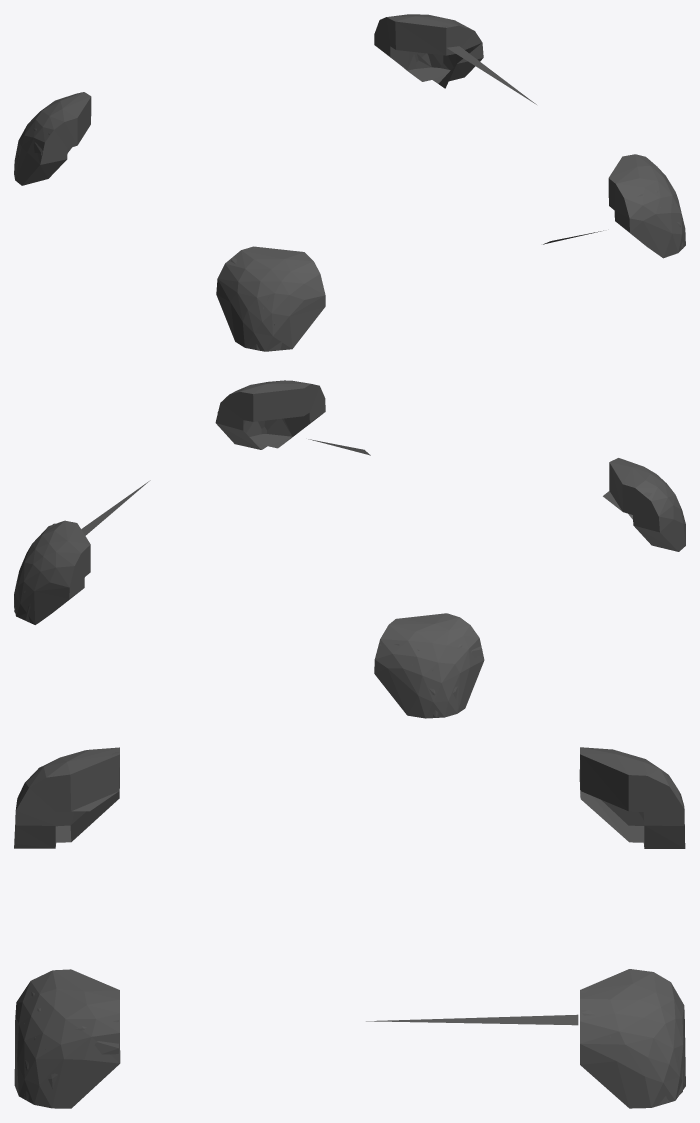
The model's file is pmc_bumper.obj.
The picture shows the model from 3 angles, top to bottom: view 1: azimuth 30°, elevation 25°; view 2: azimuth 150°, elevation 25°; view 3: azimuth 270°, elevation 25°; orthographic projection. The views are drawn at different scales.
Parts seen in each view (by area): view 1: pmc_bumper; view 2: pmc_bumper; view 3: pmc_bumper.
Part boxes in pixels (x1,y1,x2,y2): pmc_bumper: (14, 14, 685, 351); pmc_bumper: (14, 380, 685, 718); pmc_bumper: (14, 747, 685, 1108).
Size of the model in its own units: 0.3192 by 0.0503 by 0.3196.
1 material, 1 textured.
